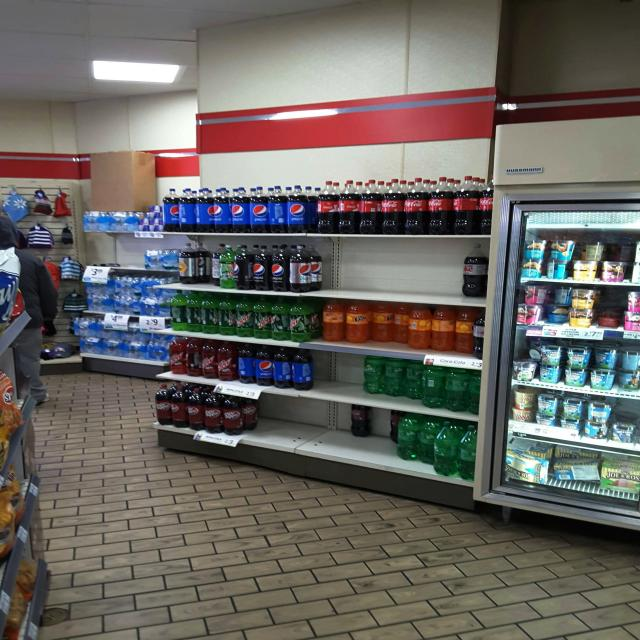empty_space: (332, 245, 460, 292), (268, 409, 348, 443), (331, 355, 361, 381)
